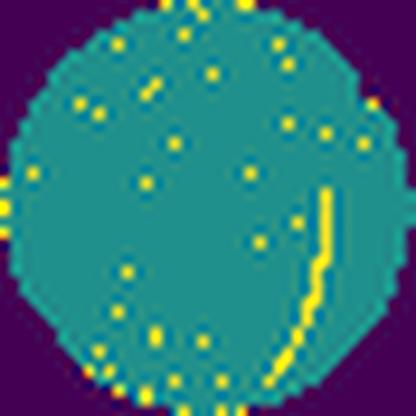Scratch: (258, 179, 341, 389)
